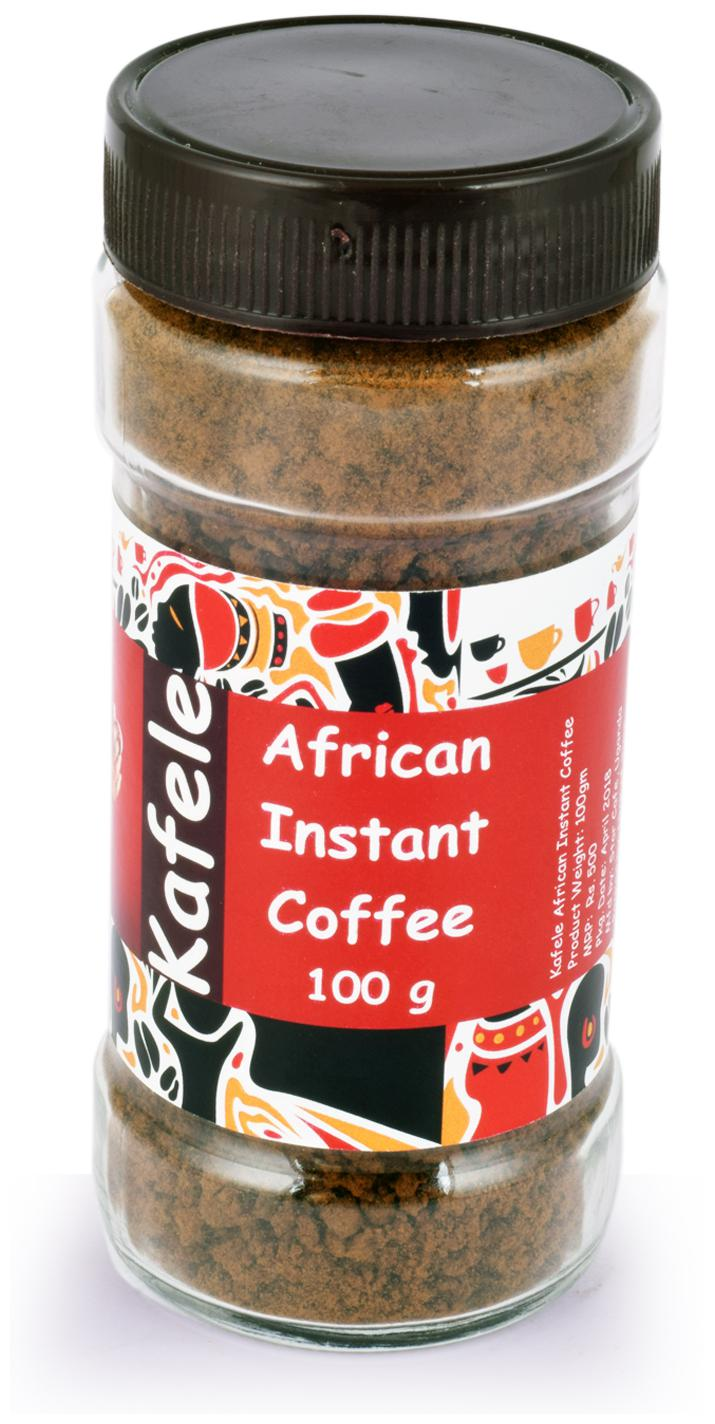JAR: (74, 8, 679, 1359)
